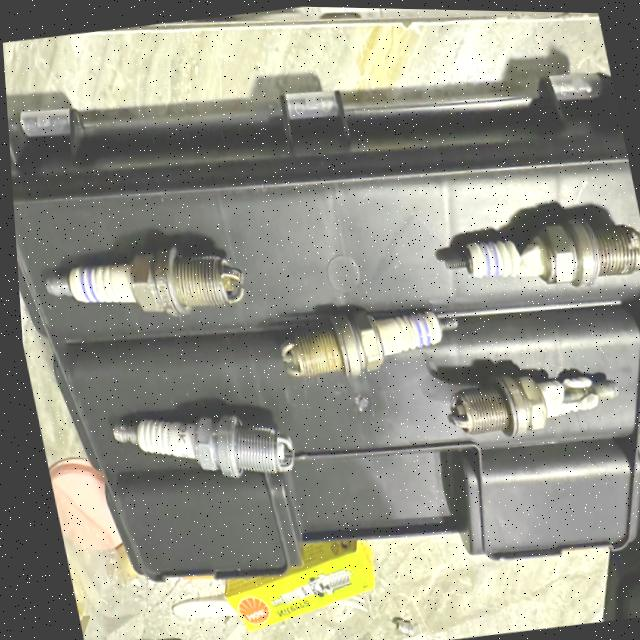damaged_spark-plug: (434, 198, 640, 302), (438, 365, 622, 438)
spark-plug: (88, 381, 300, 501), (26, 222, 248, 336), (270, 294, 452, 380)
